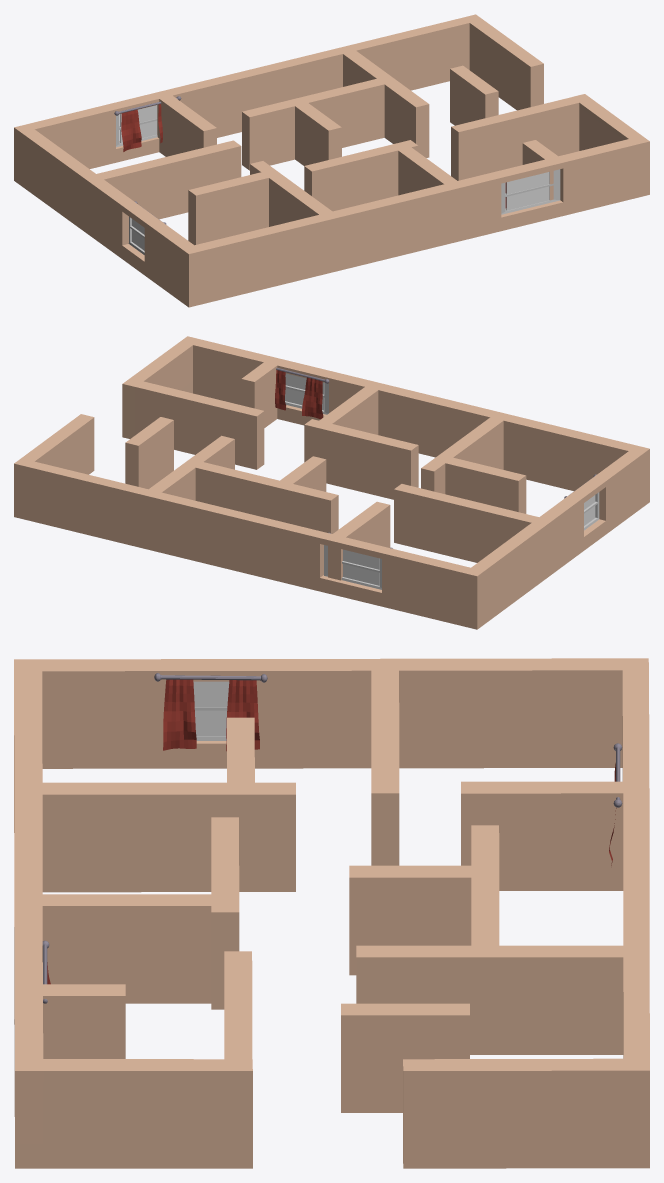
File: Level 13.fbx
3 views of the same model, one above another, from view 1: azimuth 30°, elevation 25°; view 2: azimuth 150°, elevation 25°; view 3: azimuth 270°, elevation 25° (orthographic). The views are drawn at different scales.
Parts seen in each view (by area): view 1: polySurface90, pasted__wind1, polySurface50, pasted__pasted__clowt1; view 2: polySurface90, pasted__wind1, polySurface50, pasted__pasted__clowt1; view 3: polySurface90, pasted__pasted__clowt1.
Part boxes in pixels (x1,y1,x2,y2): polySurface90: [14, 14, 649, 307]; pasted__wind1: [501, 169, 560, 214]; polySurface50: [114, 96, 181, 151]; pasted__pasted__clowt1: [128, 201, 166, 254]; polySurface90: [14, 336, 649, 629]; pasted__wind1: [275, 367, 329, 419]; polySurface50: [324, 532, 392, 589]; pasted__pasted__clowt1: [564, 474, 599, 530]; polySurface90: [14, 658, 649, 1168]; pasted__pasted__clowt1: [154, 673, 267, 751].
Size of the model in its own units: 154 by 16.93 by 99.98.
